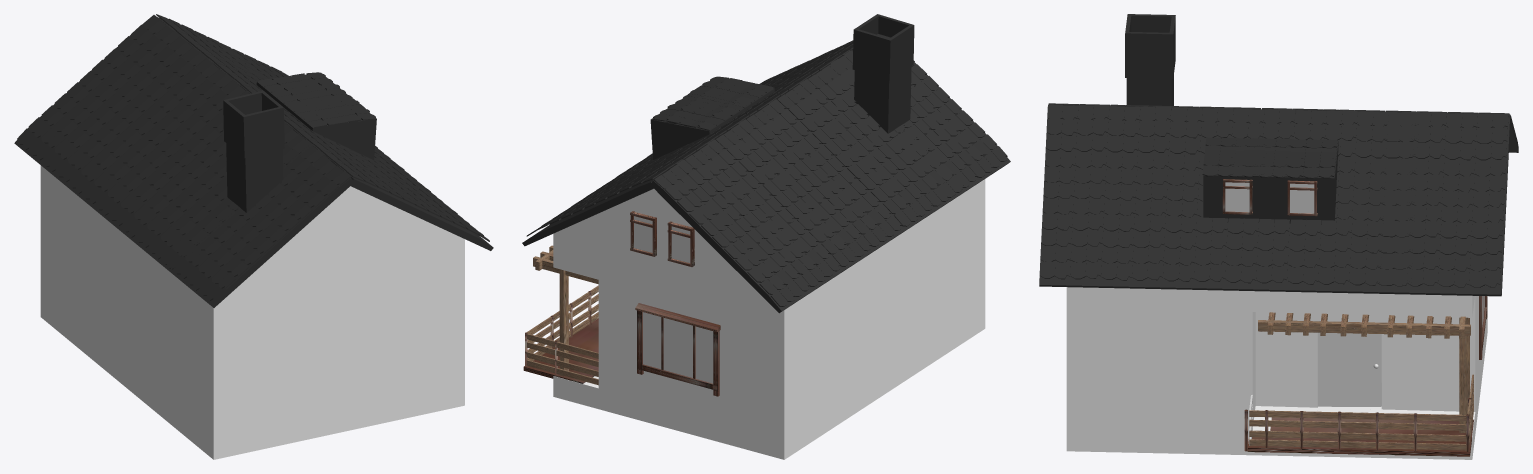
Rendered from House02.fbx.
The picture shows the model from 3 angles, left to right: view 1: azimuth 30°, elevation 25°; view 2: azimuth 150°, elevation 25°; view 3: azimuth 270°, elevation 25°; orthographic projection. The views are drawn at different scales.
Visible parts, largest first — view 1: House02; view 2: House02; view 3: House02.
Part boxes in pixels (box(x1,y1,x2,y2)): House02: box(14, 14, 493, 459); House02: box(522, 14, 1010, 459); House02: box(1039, 14, 1518, 459).
Size of the model in its own units: 633 by 622 by 801.
5 materials, 2 textured.
